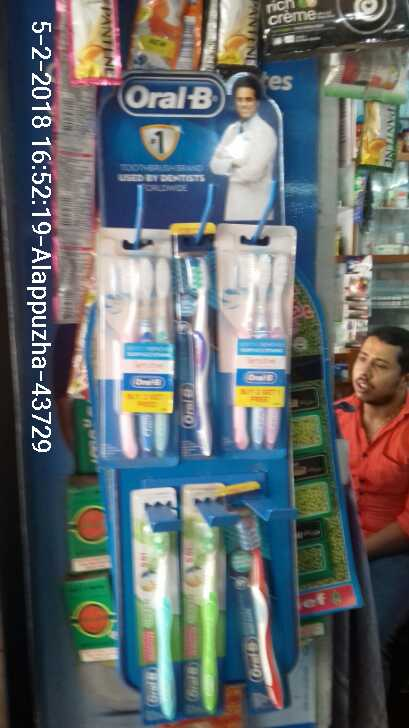oralb: (89, 230, 177, 464), (215, 220, 297, 455), (219, 495, 300, 718), (131, 473, 180, 721), (174, 231, 222, 454), (184, 485, 227, 712)
